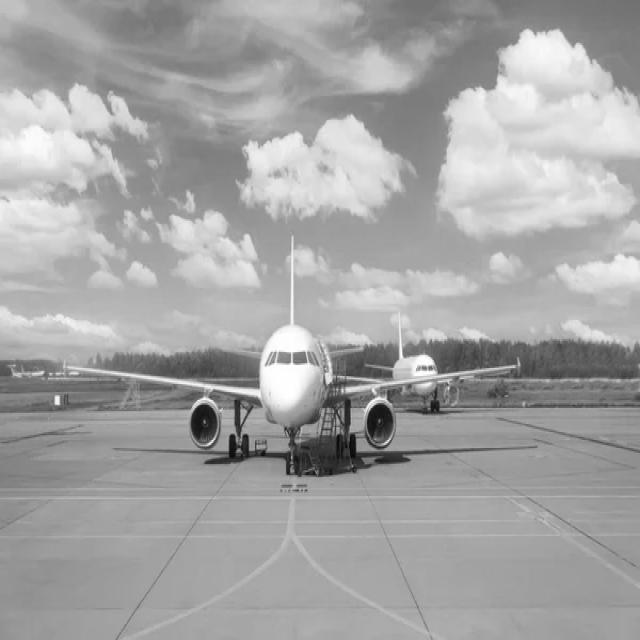Aircraft: (65, 236, 520, 477), (370, 328, 491, 408)
